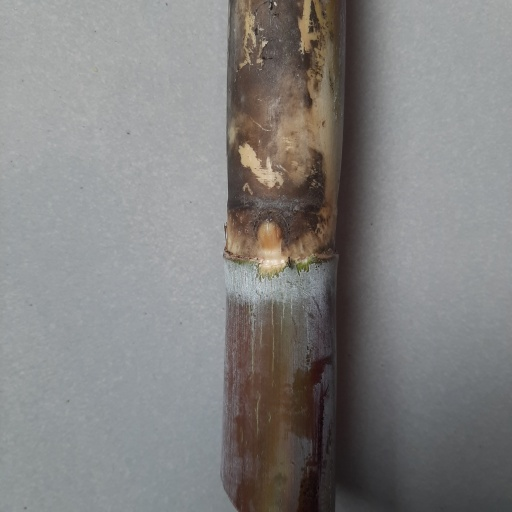Bud: (256, 218, 282, 251)
